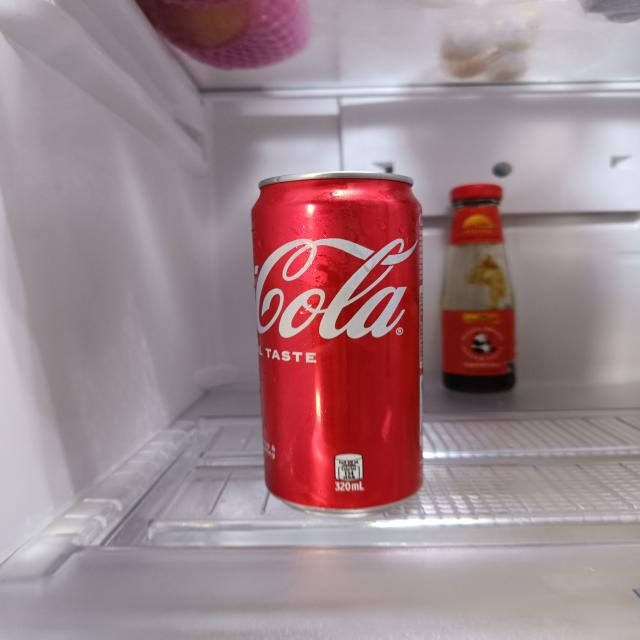coke: (257, 177, 422, 511)
